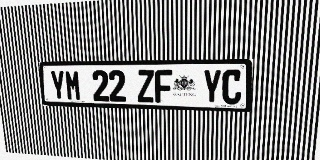2: (108, 70, 126, 102), (92, 70, 109, 101)
C: (222, 69, 242, 105)
F: (155, 70, 172, 103)
M: (64, 70, 82, 101)
Y: (202, 69, 222, 104), (49, 70, 66, 100)
Z: (137, 70, 155, 103)
